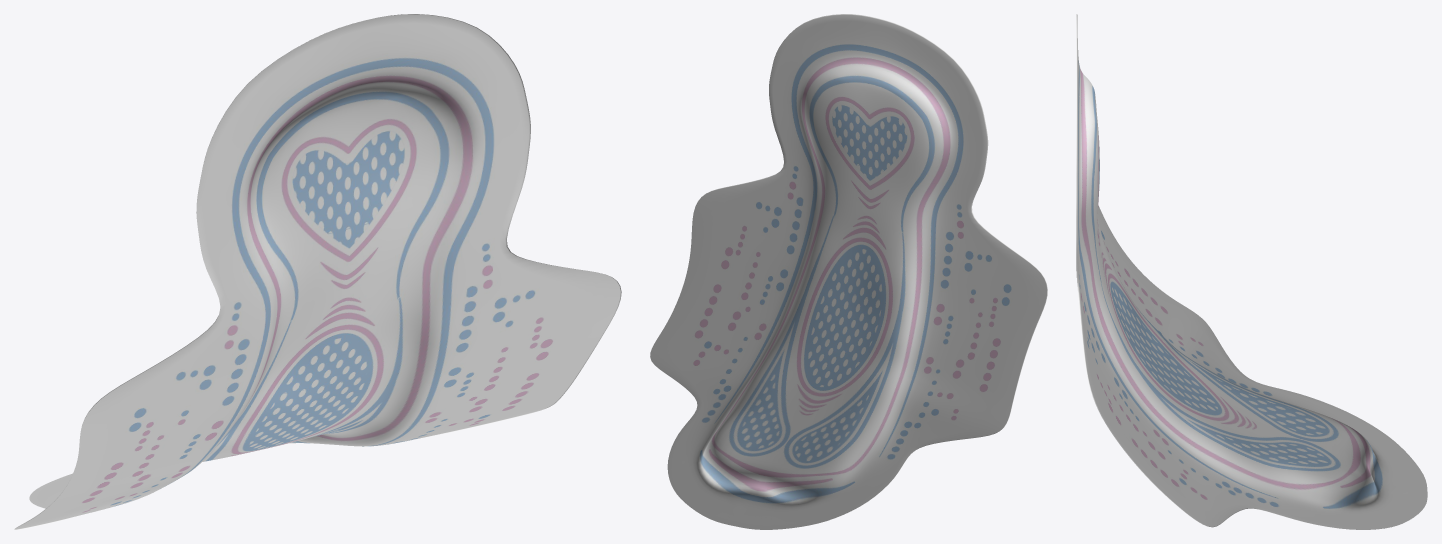
The model's file is saba.glb.
The picture shows the model from 3 angles, left to right: view 1: azimuth 30°, elevation 25°; view 2: azimuth 150°, elevation 25°; view 3: azimuth 270°, elevation 25°; orthographic projection. The views are drawn at different scales.
Visible parts, largest first — view 1: Saba__ultra_invisible_ultra_thin_TOMA1; view 2: Saba__ultra_invisible_ultra_thin_TOMA1; view 3: Saba__ultra_invisible_ultra_thin_TOMA1.
Part boxes in pixels (x1=…): Saba__ultra_invisible_ultra_thin_TOMA1: x1=14, y1=14, x2=621, y2=529; Saba__ultra_invisible_ultra_thin_TOMA1: x1=650, y1=14, x2=1047, y2=529; Saba__ultra_invisible_ultra_thin_TOMA1: x1=1076, y1=14, x2=1427, y2=529.
Bounding box in the file's own units: 0.2734 × 0.2921 × 0.2008.
1 material, 1 textured.
